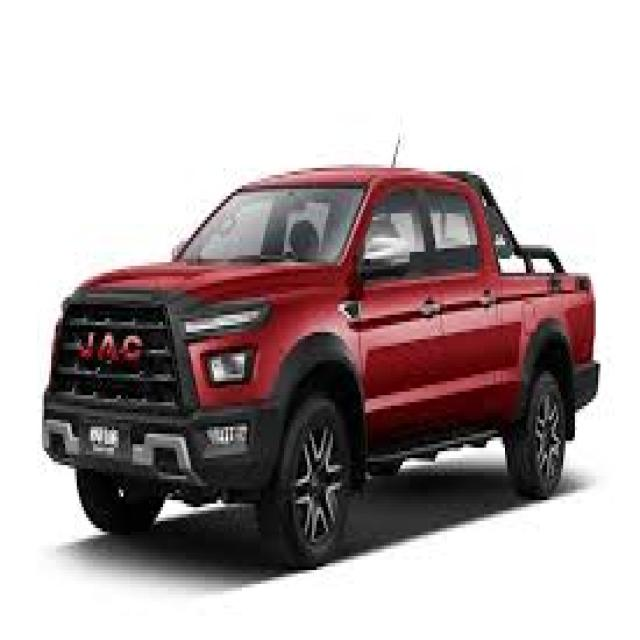Pickup Trucks: (44, 171, 598, 570)
